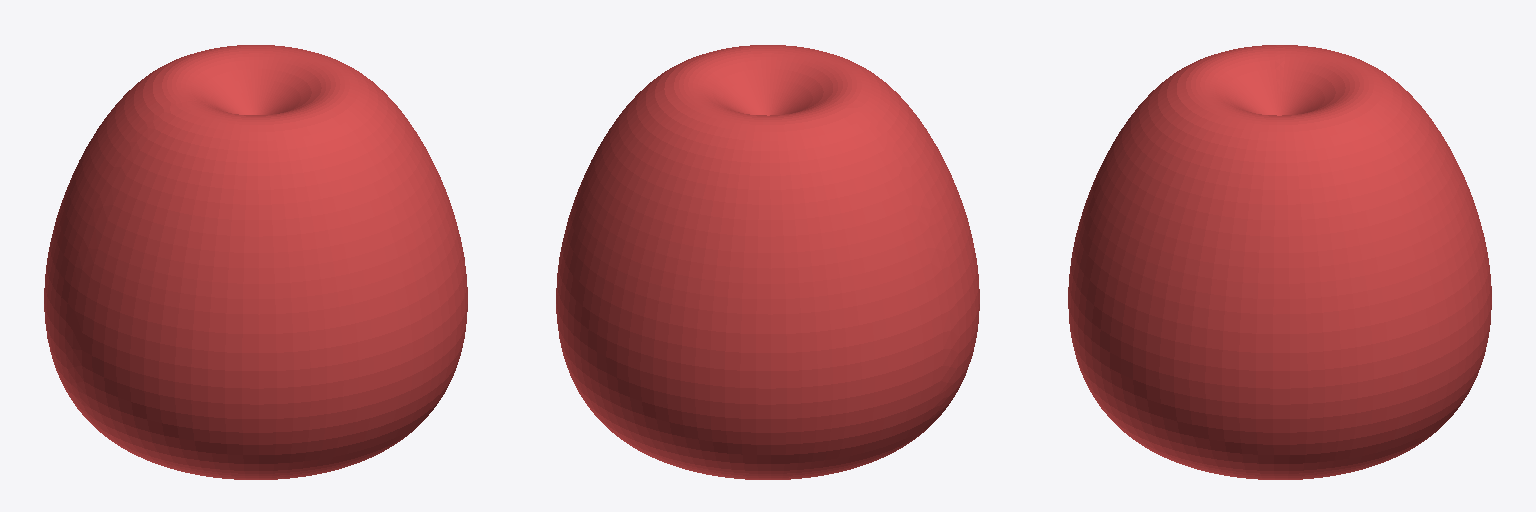
The model's file is Assembly_Smart_Apple_low.obj.
3 views of the same model, side by side, from view 1: azimuth 30°, elevation 25°; view 2: azimuth 150°, elevation 25°; view 3: azimuth 270°, elevation 25° (orthographic).
Visible parts, largest first — view 1: Body5; view 2: Body5; view 3: Body5.
Boxes of the visible parts, <box> form: Body5: <box>44,45,467,479</box>; Body5: <box>556,45,979,479</box>; Body5: <box>1068,45,1491,479</box>.
Size of the model in its own units: 82.23 by 73.51 by 82.24.